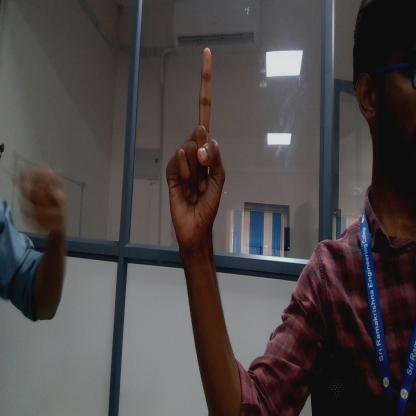Up: (158, 25, 228, 263)
